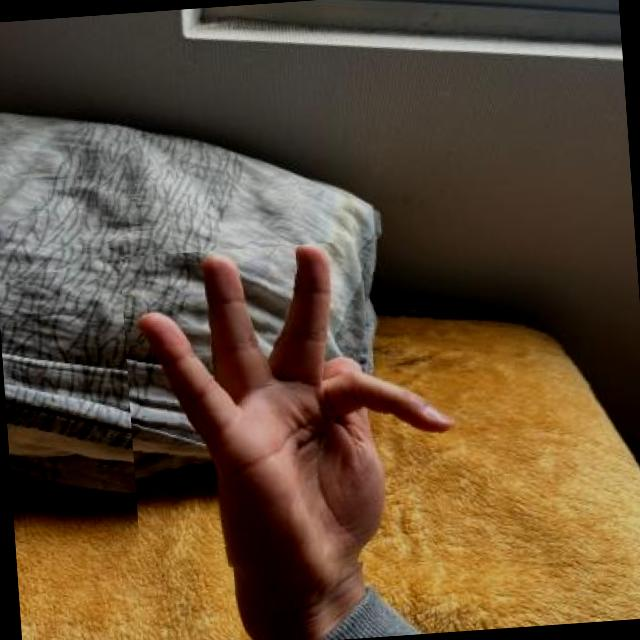F: (119, 234, 464, 581)
